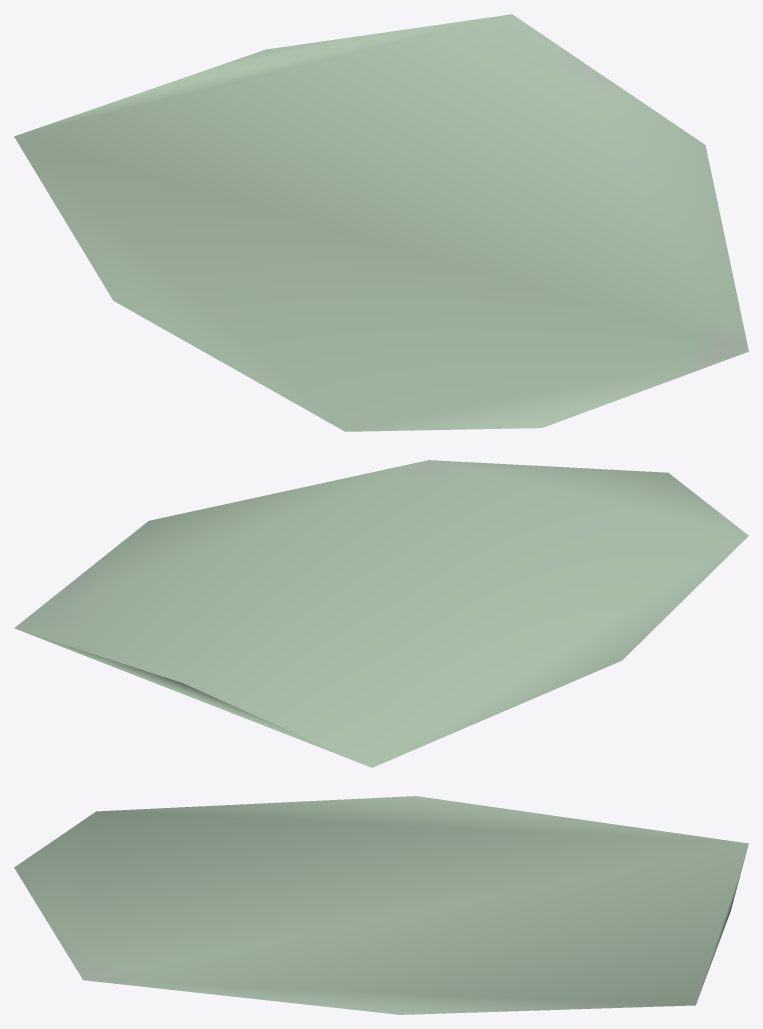
File: TROLLHOLE02_HOLECAP209.fbx
3 renders of one model, top to bottom at view 1: azimuth 30°, elevation 25°; view 2: azimuth 150°, elevation 25°; view 3: azimuth 270°, elevation 25°, orthographic. The views are drawn at different scales.
Visible parts, largest first — view 1: TROLLHOLE02_HOLECAP209; view 2: TROLLHOLE02_HOLECAP209; view 3: TROLLHOLE02_HOLECAP209.
Part boxes in pixels (x1,y1,x2,y2): TROLLHOLE02_HOLECAP209: [14, 14, 748, 431]; TROLLHOLE02_HOLECAP209: [14, 460, 748, 767]; TROLLHOLE02_HOLECAP209: [14, 796, 748, 1014].
Bounding box in the file's own units: 10849 × 685 × 14297.
1 material, 1 textured.
